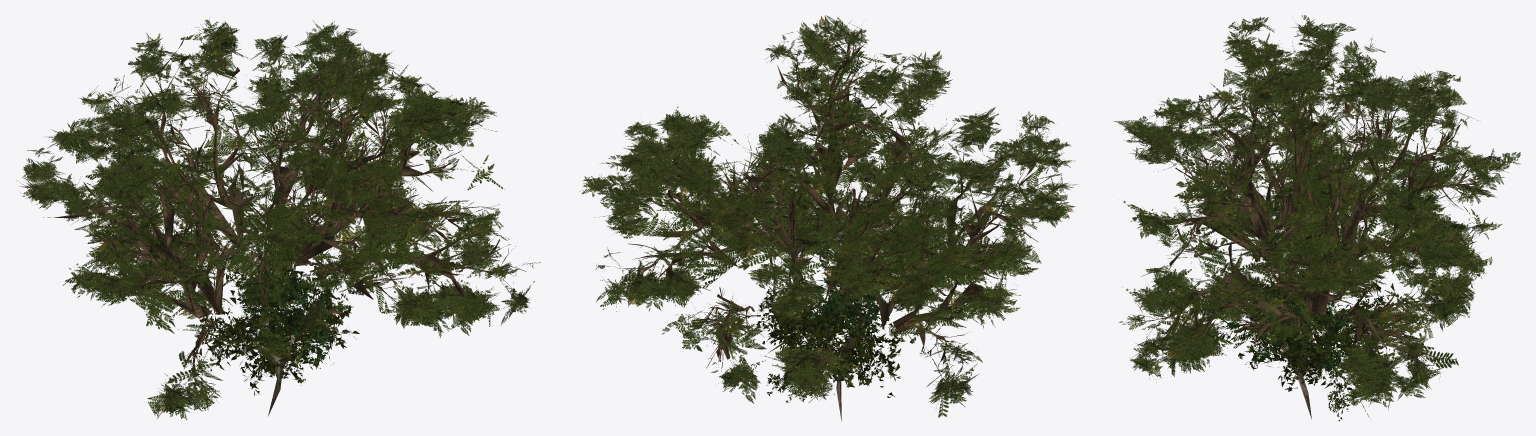
File: trees.glb
The picture shows the model from 3 angles, left to right: view 1: azimuth 30°, elevation 25°; view 2: azimuth 150°, elevation 25°; view 3: azimuth 270°, elevation 25°; orthographic projection. The views are drawn at different scales.
Parts seen in each view (by area): view 1: jacaranda_tree_WEB, island_tree_01_WEB, tree_small_02_WEB; view 2: jacaranda_tree_WEB, island_tree_01_WEB, tree_small_02_WEB; view 3: jacaranda_tree_WEB, island_tree_01_WEB, tree_small_02_WEB.
Part boxes in pixels (box(x1,y1,x2,y2)): jacaranda_tree_WEB: box(16, 20, 540, 420); island_tree_01_WEB: box(189, 235, 359, 395); tree_small_02_WEB: box(233, 263, 346, 416); jacaranda_tree_WEB: box(579, 15, 1077, 417); island_tree_01_WEB: box(755, 273, 901, 402); tree_small_02_WEB: box(768, 261, 902, 421); jacaranda_tree_WEB: box(1114, 15, 1520, 419); island_tree_01_WEB: box(1238, 282, 1398, 421); tree_small_02_WEB: box(1215, 264, 1352, 419).
Bounding box in the file's own units: 15.32 × 12.12 × 12.01.
7 materials, 7 textured.
